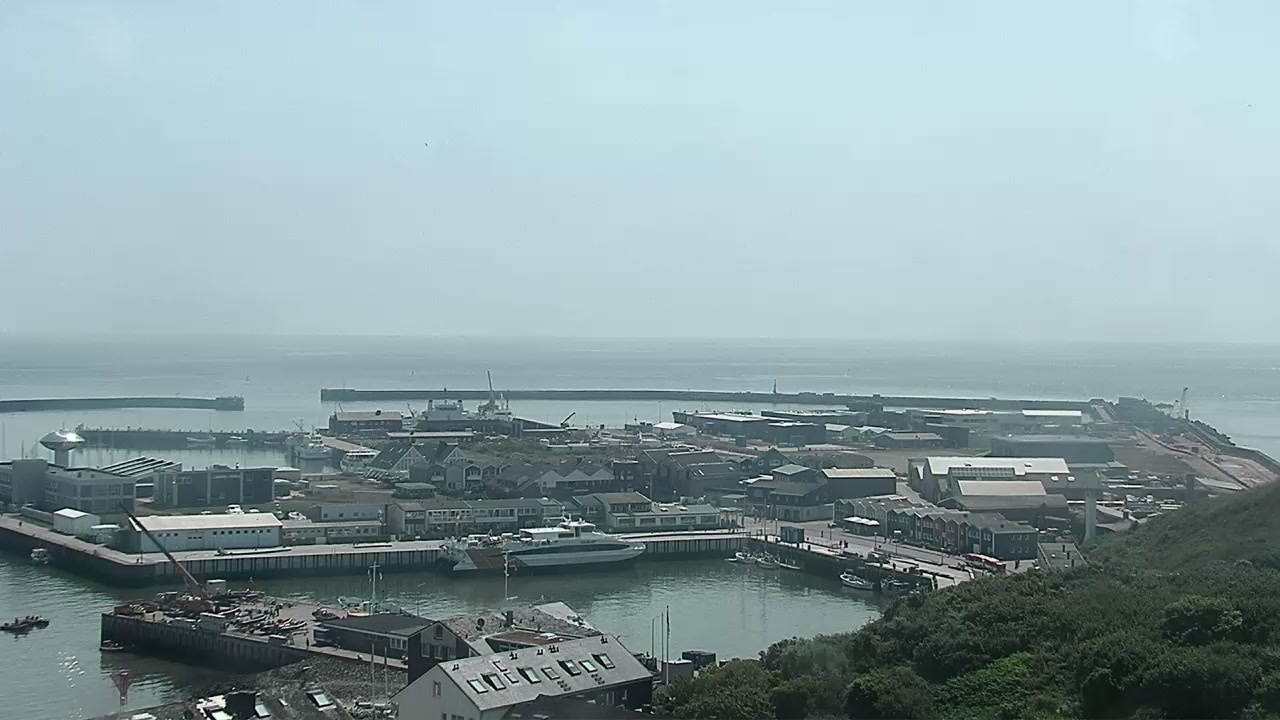human: (17, 519, 23, 528), (892, 562, 897, 570)
land: (964, 552, 1008, 575)
sea: (431, 504, 647, 572), (408, 383, 517, 430), (336, 560, 413, 613), (879, 571, 914, 597), (840, 571, 877, 590), (183, 429, 217, 445), (96, 637, 127, 653), (29, 546, 55, 564), (756, 553, 780, 570), (21, 615, 50, 629), (1, 617, 28, 632), (734, 550, 757, 565), (223, 435, 250, 447)
